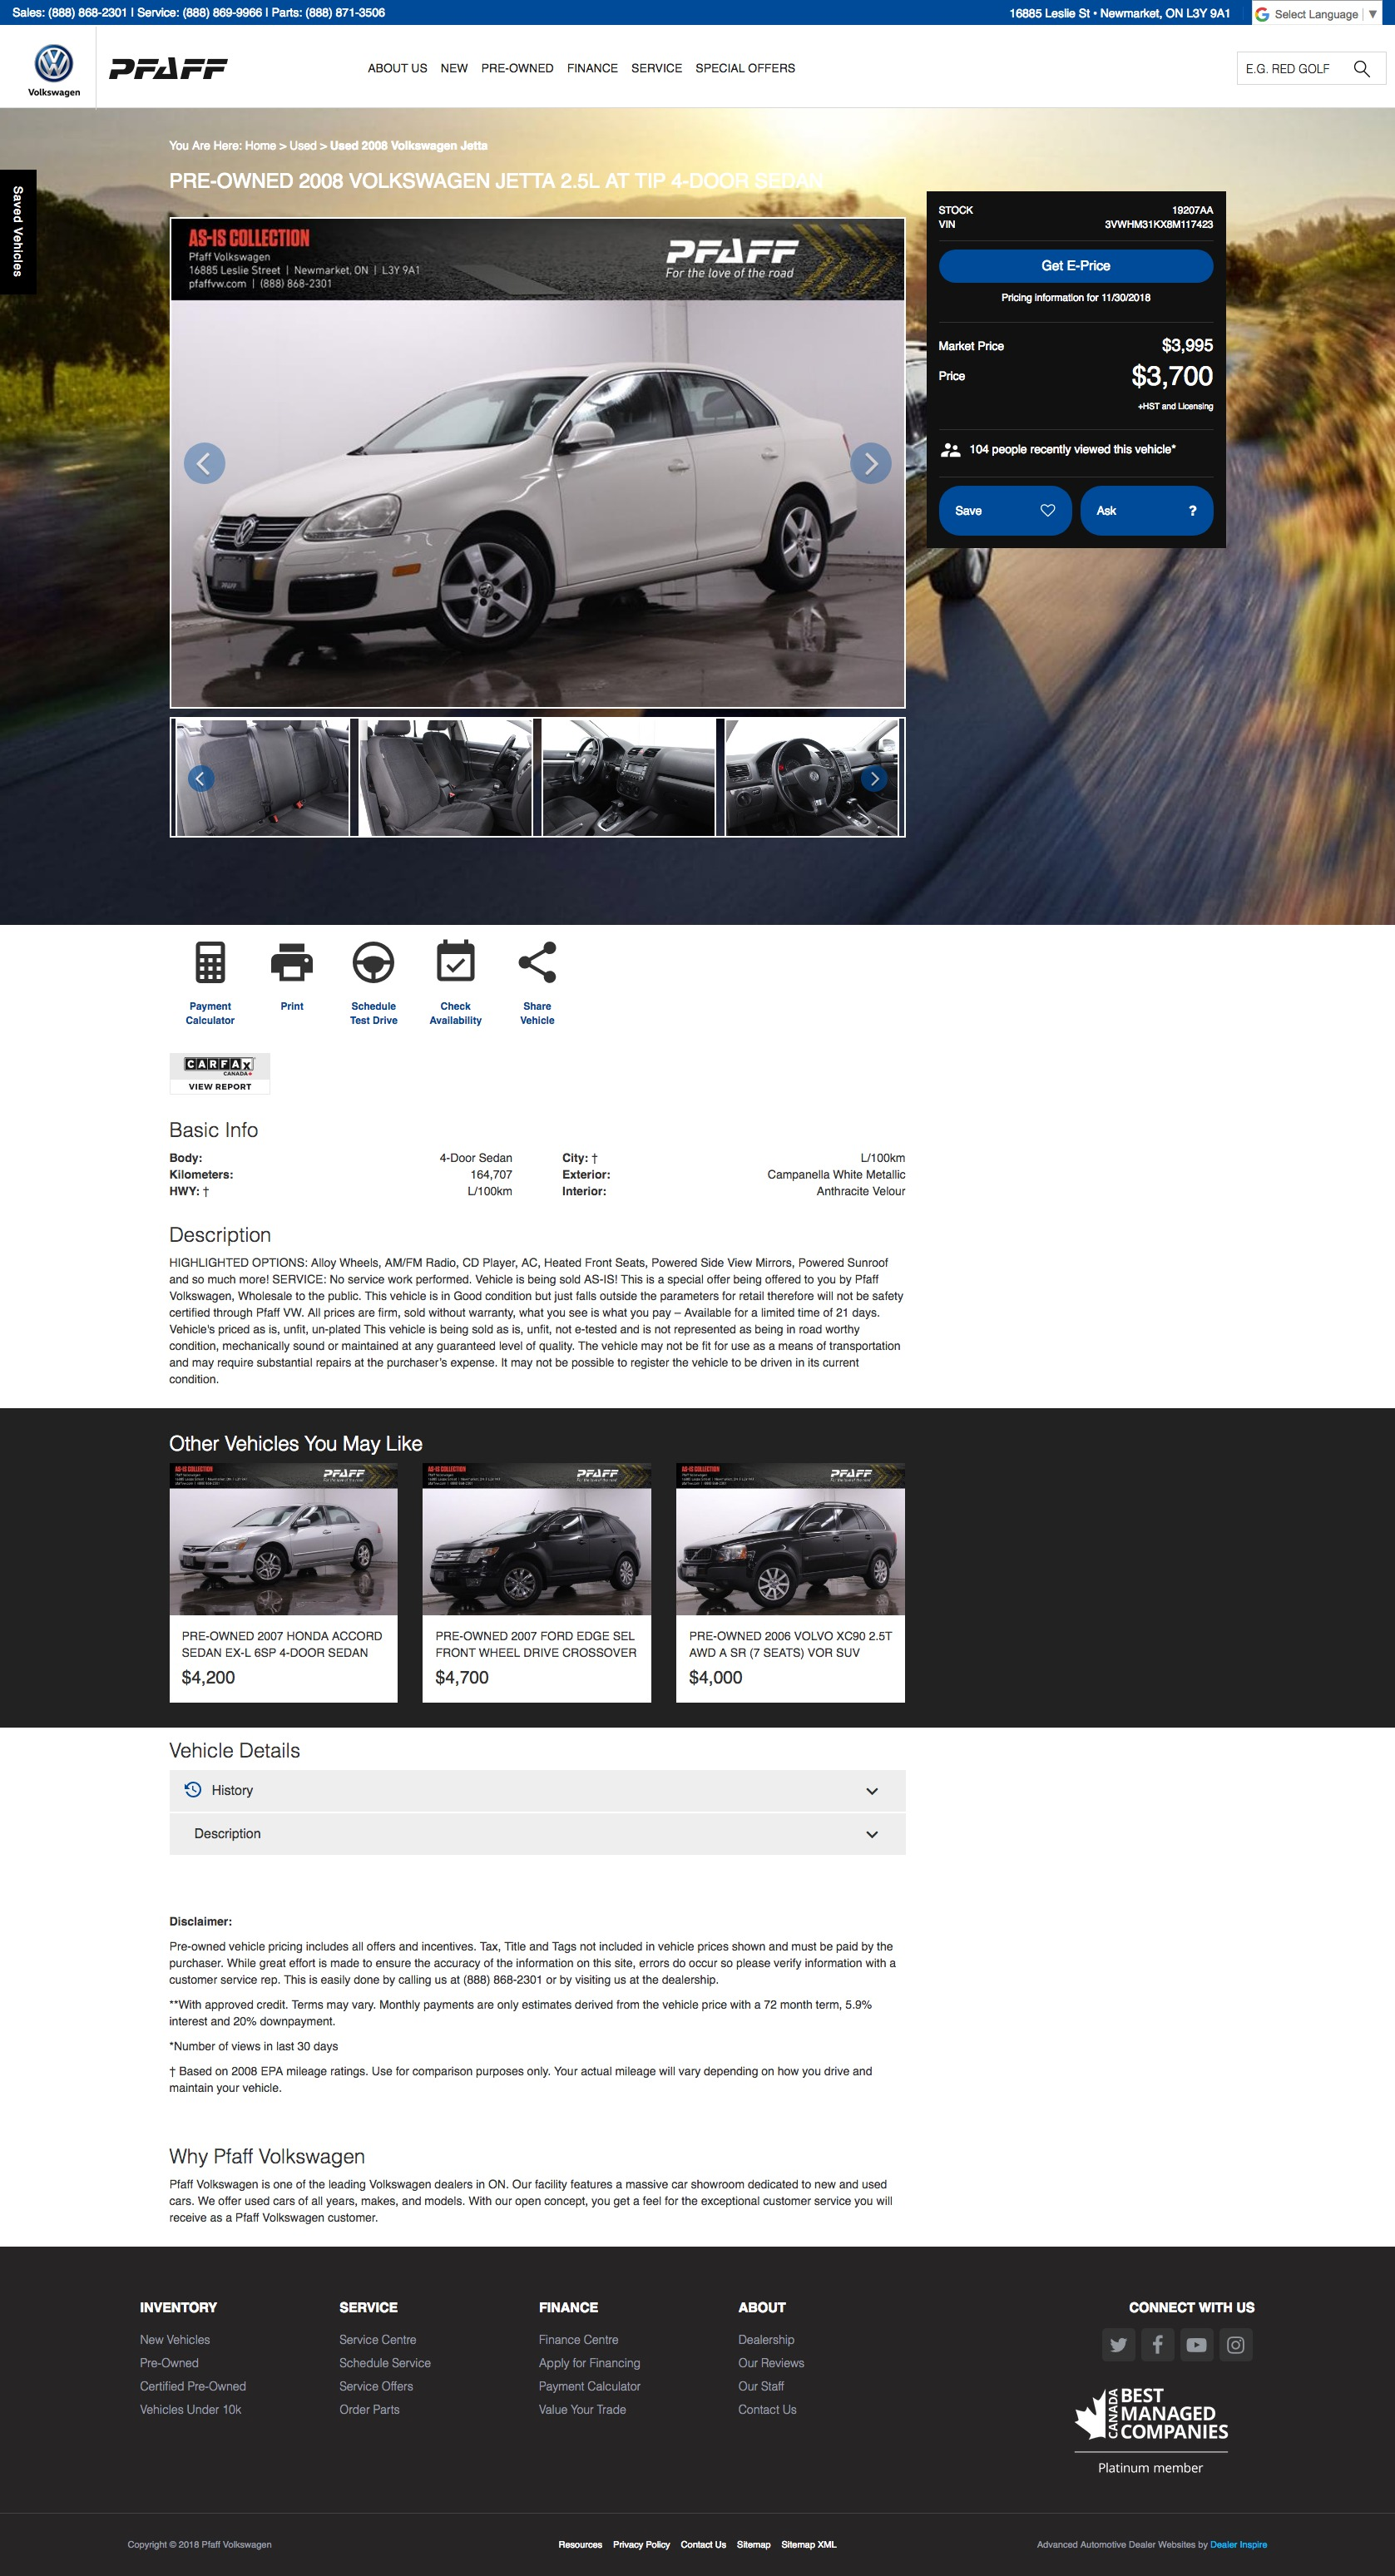car: (861, 764, 890, 793)
